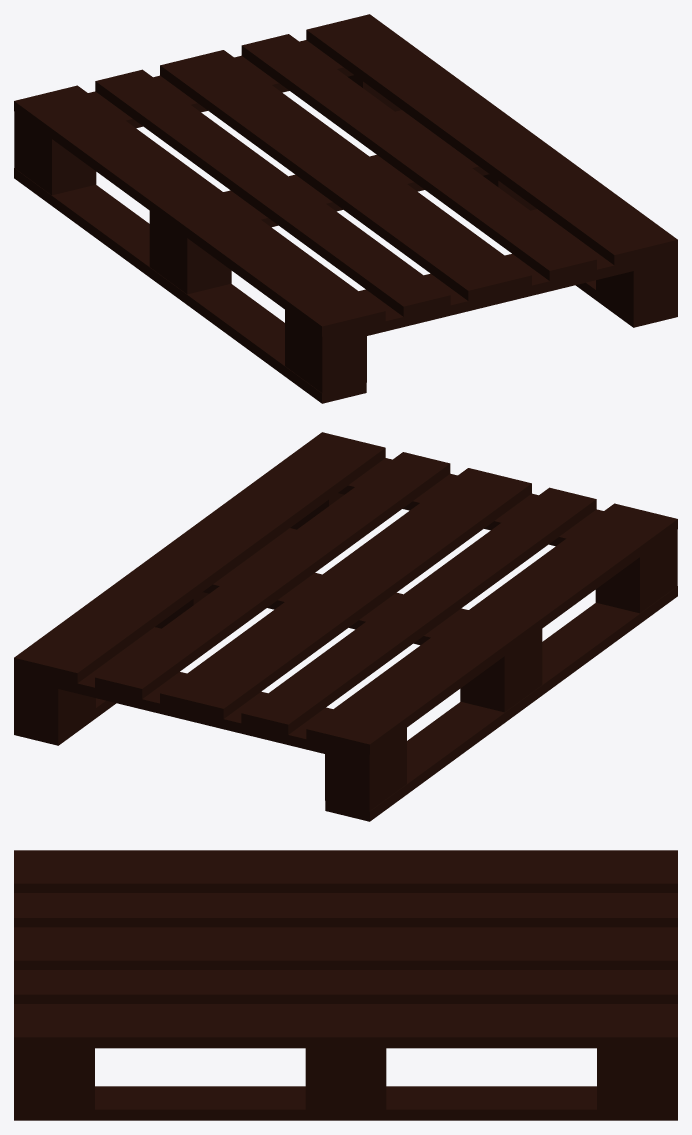
File: S_Palette.fbx
3 views of the same model, one above another, from view 1: azimuth 30°, elevation 25°; view 2: azimuth 150°, elevation 25°; view 3: azimuth 270°, elevation 25° (orthographic). The views are drawn at different scales.
Visible parts, largest first — view 1: Cube.006, Cube.007, Cube.004, Cube.008, Cube.005; view 2: Cube.006, Cube.007, Cube.004, Cube.008, Cube.005; view 3: Cube.006, Cube.007, Cube.008, Cube.004, Cube.005.
Part boxes in pixels (x1,y1,x2,y2): Cube.006: (14,14,677,336); Cube.007: (95,34,596,316); Cube.004: (14,75,677,393); Cube.008: (14,110,677,403); Cube.005: (14,40,677,346); Cube.006: (14,432,677,754); Cube.007: (95,452,596,734); Cube.004: (14,493,677,811); Cube.008: (14,528,677,821); Cube.005: (14,458,677,764); Cube.006: (14,850,677,1048); Cube.007: (14,893,677,1003); Cube.008: (14,1086,677,1120); Cube.004: (14,1059,677,1109); Cube.005: (14,1048,677,1059).
Size of the model in its own units: 31.5 by 6.54 by 47.24.
